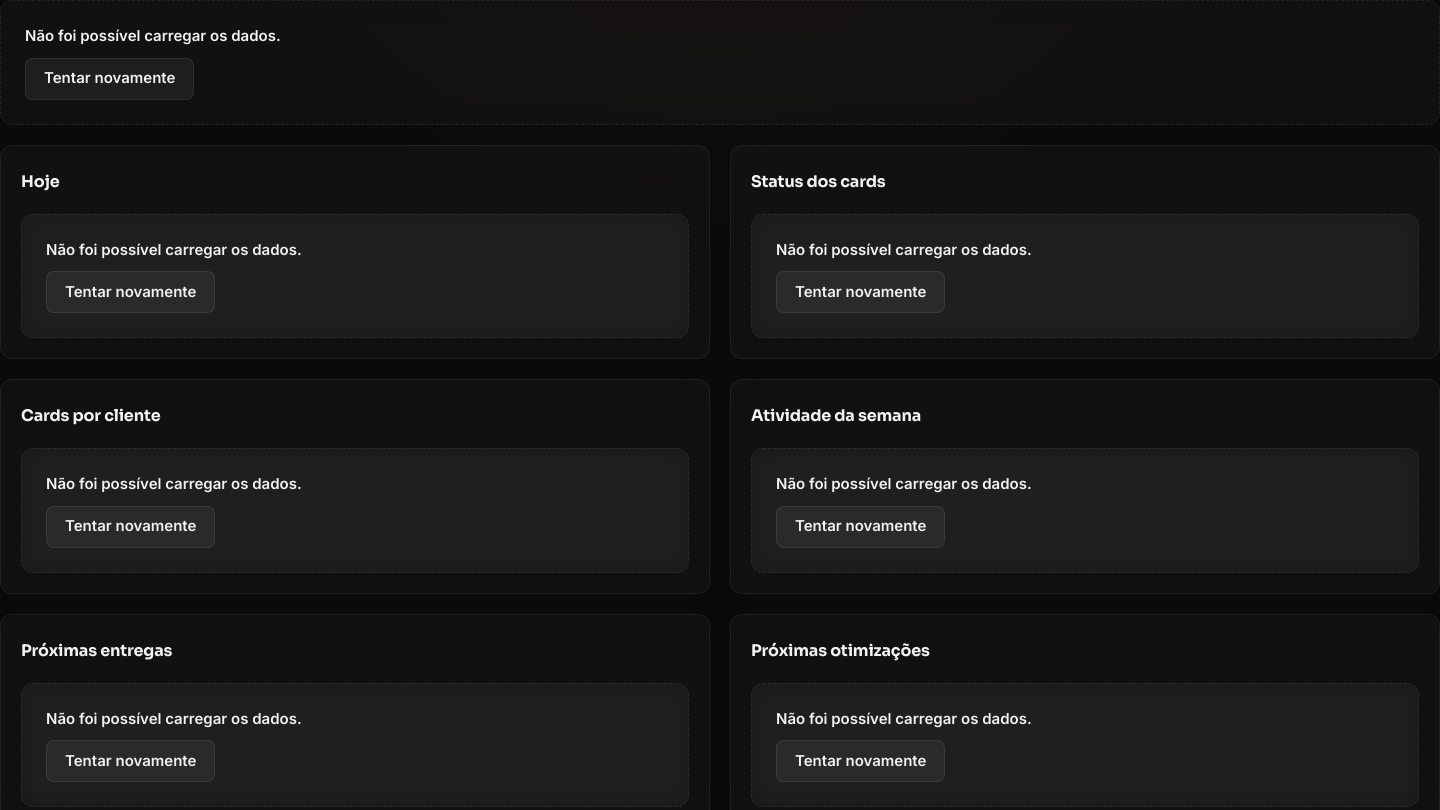
Test: DashboardPage › falha de leitura vira erro com tentar novamente
Click the 1st button "Tentar novamente": (110, 78) [25,58,194,100]
(page scrolled)
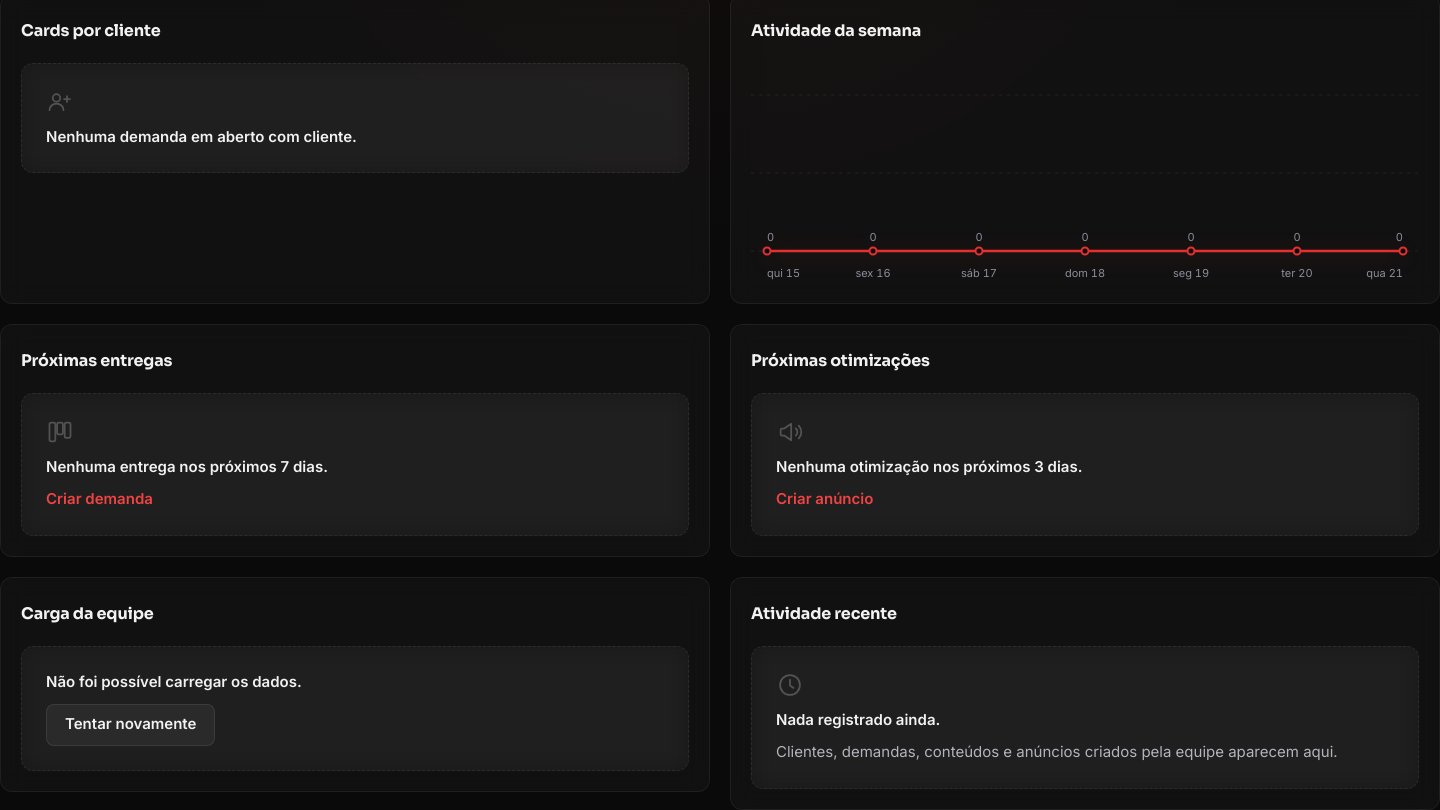
Expected: the text "Nenhuma entrega nos próximos 7 dias." is shown, [46,456,328,478]
